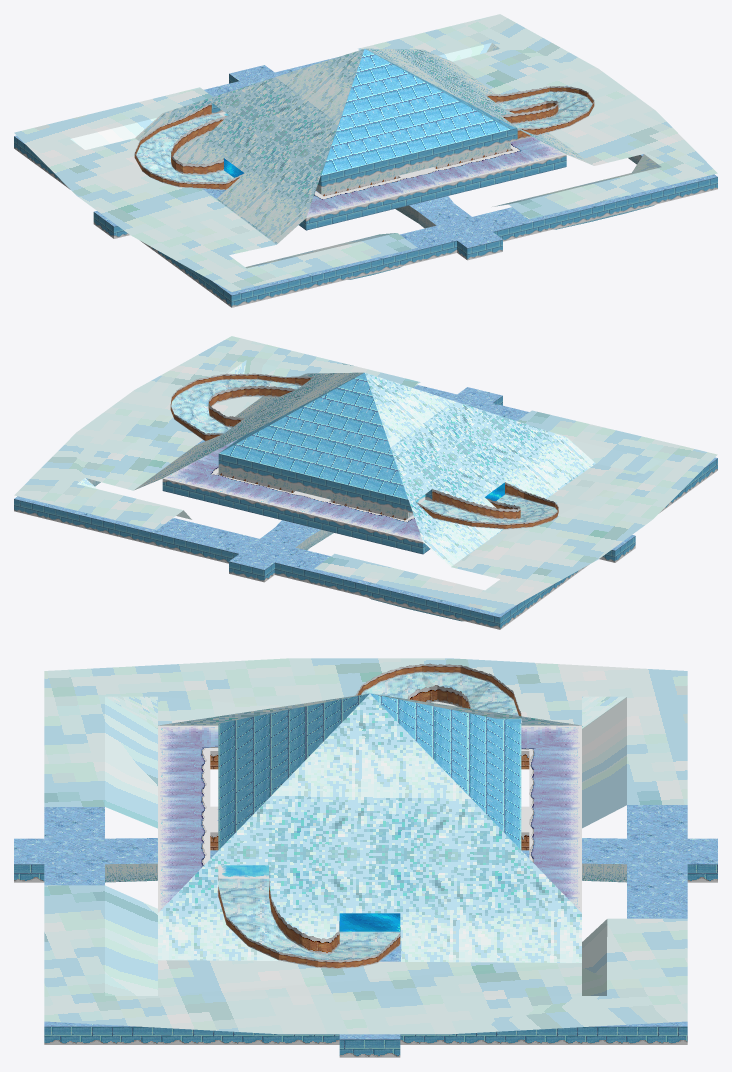
The model's file is map.obj.
3 views of the same model, one above another, from view 1: azimuth 30°, elevation 25°; view 2: azimuth 150°, elevation 25°; view 3: azimuth 270°, elevation 25° (orthographic). The views are drawn at different scales.
Parts seen in each view (by area): view 1: Nemu_57DAB0FE_0_38, Nemu_1AFD823D_0_39, Nemu_74206BB6_0_34, Nemu_F39E380_0_36, Nemu_18F1895A_0_32, Nemu_7FB6E643_0_30, Nemu_695B08AA_0_73, Nemu_1C2CB191_0_37, Nemu_1D929C74_0_33; view 2: Nemu_57DAB0FE_0_38, Nemu_1AFD823D_0_39, Nemu_74206BB6_0_34, Nemu_F39E380_0_36, Nemu_18F1895A_0_32, Nemu_7FB6E643_0_30, Nemu_695B08AA_0_73, Nemu_1C2CB191_0_37, Nemu_1D929C74_0_33; view 3: Nemu_57DAB0FE_0_38, Nemu_1AFD823D_0_39, Nemu_F39E380_0_36, Nemu_7FB6E643_0_30, Nemu_18F1895A_0_32, Nemu_74206BB6_0_34, Nemu_1C2CB191_0_37, Nemu_695B08AA_0_73, Nemu_66FC4D4D_0_31, Nemu_116E2F0B_0_35, Nemu_1D929C74_0_33.
Part boxes in pixels (bbox=[...]): Nemu_57DAB0FE_0_38: bbox=[14, 14, 717, 291]; Nemu_1AFD823D_0_39: bbox=[135, 48, 593, 244]; Nemu_74206BB6_0_34: bbox=[14, 74, 717, 307]; Nemu_F39E380_0_36: bbox=[321, 49, 510, 175]; Nemu_18F1895A_0_32: bbox=[14, 57, 717, 295]; Nemu_7FB6E643_0_30: bbox=[209, 115, 565, 217]; Nemu_695B08AA_0_73: bbox=[134, 86, 594, 189]; Nemu_1C2CB191_0_37: bbox=[136, 92, 592, 182]; Nemu_1D929C74_0_33: bbox=[321, 148, 512, 196]; Nemu_57DAB0FE_0_38: bbox=[14, 336, 717, 613]; Nemu_1AFD823D_0_39: bbox=[134, 372, 595, 566]; Nemu_74206BB6_0_34: bbox=[14, 396, 717, 629]; Nemu_F39E380_0_36: bbox=[219, 373, 408, 499]; Nemu_18F1895A_0_32: bbox=[14, 384, 717, 617]; Nemu_7FB6E643_0_30: bbox=[163, 438, 433, 541]; Nemu_695B08AA_0_73: bbox=[170, 373, 558, 529]; Nemu_1C2CB191_0_37: bbox=[171, 379, 557, 523]; Nemu_1D929C74_0_33: bbox=[216, 472, 407, 520]; Nemu_57DAB0FE_0_38: bbox=[44, 658, 687, 1034]; Nemu_1AFD823D_0_39: bbox=[158, 693, 581, 962]; Nemu_F39E380_0_36: bbox=[218, 693, 521, 849]; Nemu_7FB6E643_0_30: bbox=[158, 725, 581, 912]; Nemu_18F1895A_0_32: bbox=[14, 805, 717, 1039]; Nemu_74206BB6_0_34: bbox=[14, 718, 717, 1057]; Nemu_1C2CB191_0_37: bbox=[218, 672, 518, 960]; Nemu_695B08AA_0_73: bbox=[218, 663, 521, 968]; Nemu_66FC4D4D_0_31: bbox=[339, 913, 400, 931]; Nemu_116E2F0B_0_35: bbox=[218, 865, 268, 878]; Nemu_1D929C74_0_33: bbox=[210, 751, 529, 850].
Size of the model in its own units: 5640 by 1248 by 4462.
17 materials, 17 textured.
